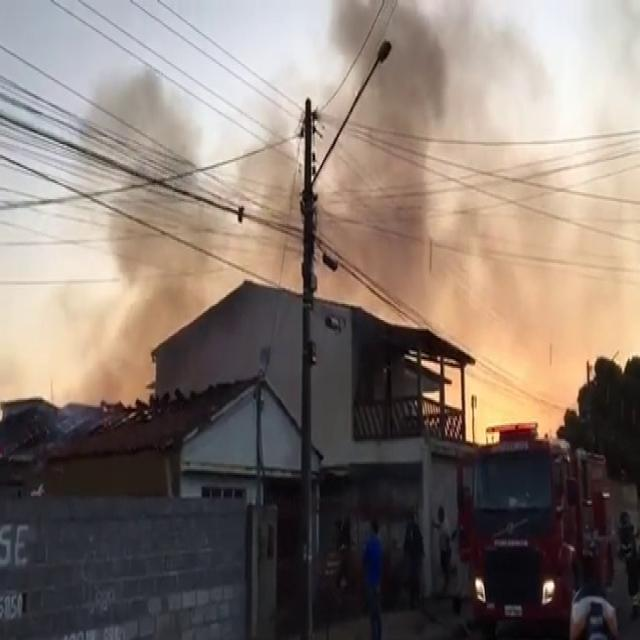Smoke: (2, 0, 638, 420)
